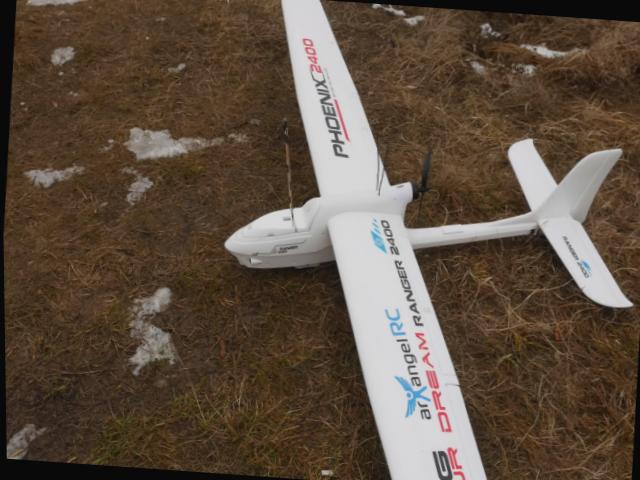plane: (205, 0, 640, 480)
